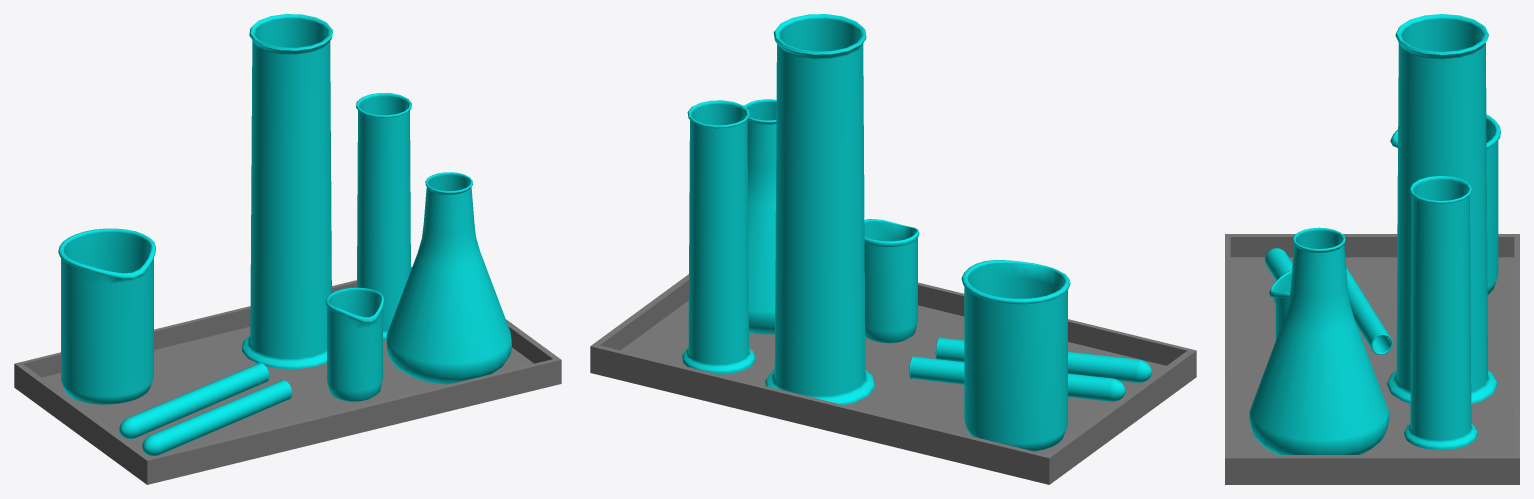
File: SM_Tray with dishes.fbx
3 views of the same model, side by side, from view 1: azimuth 30°, elevation 25°; view 2: azimuth 150°, elevation 25°; view 3: azimuth 270°, elevation 25° (orthographic). The views are drawn at different scales.
Parts seen in each view (by area): view 1: Tray_with_dishes; view 2: Tray_with_dishes; view 3: Tray_with_dishes.
Boxes of the visible parts, left/top/right/bottom form: Tray_with_dishes: left=14, top=14, right=561, bottom=484; Tray_with_dishes: left=590, top=14, right=1196, bottom=484; Tray_with_dishes: left=1225, top=14, right=1519, bottom=484.
Size of what is drawn, in the model's own units: 36 by 26.83 by 20.
